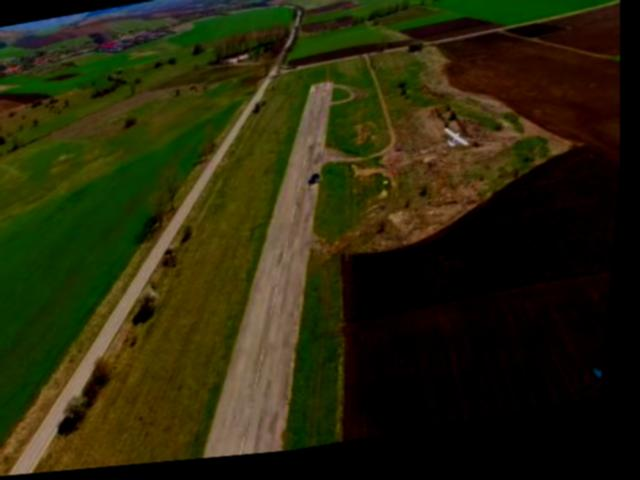uav: (437, 125, 477, 164)
